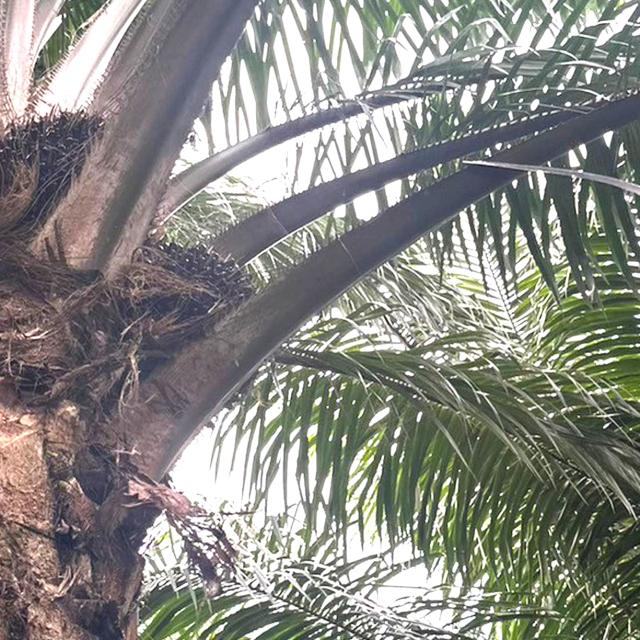almost: (119, 235, 269, 384), (1, 95, 149, 223)
